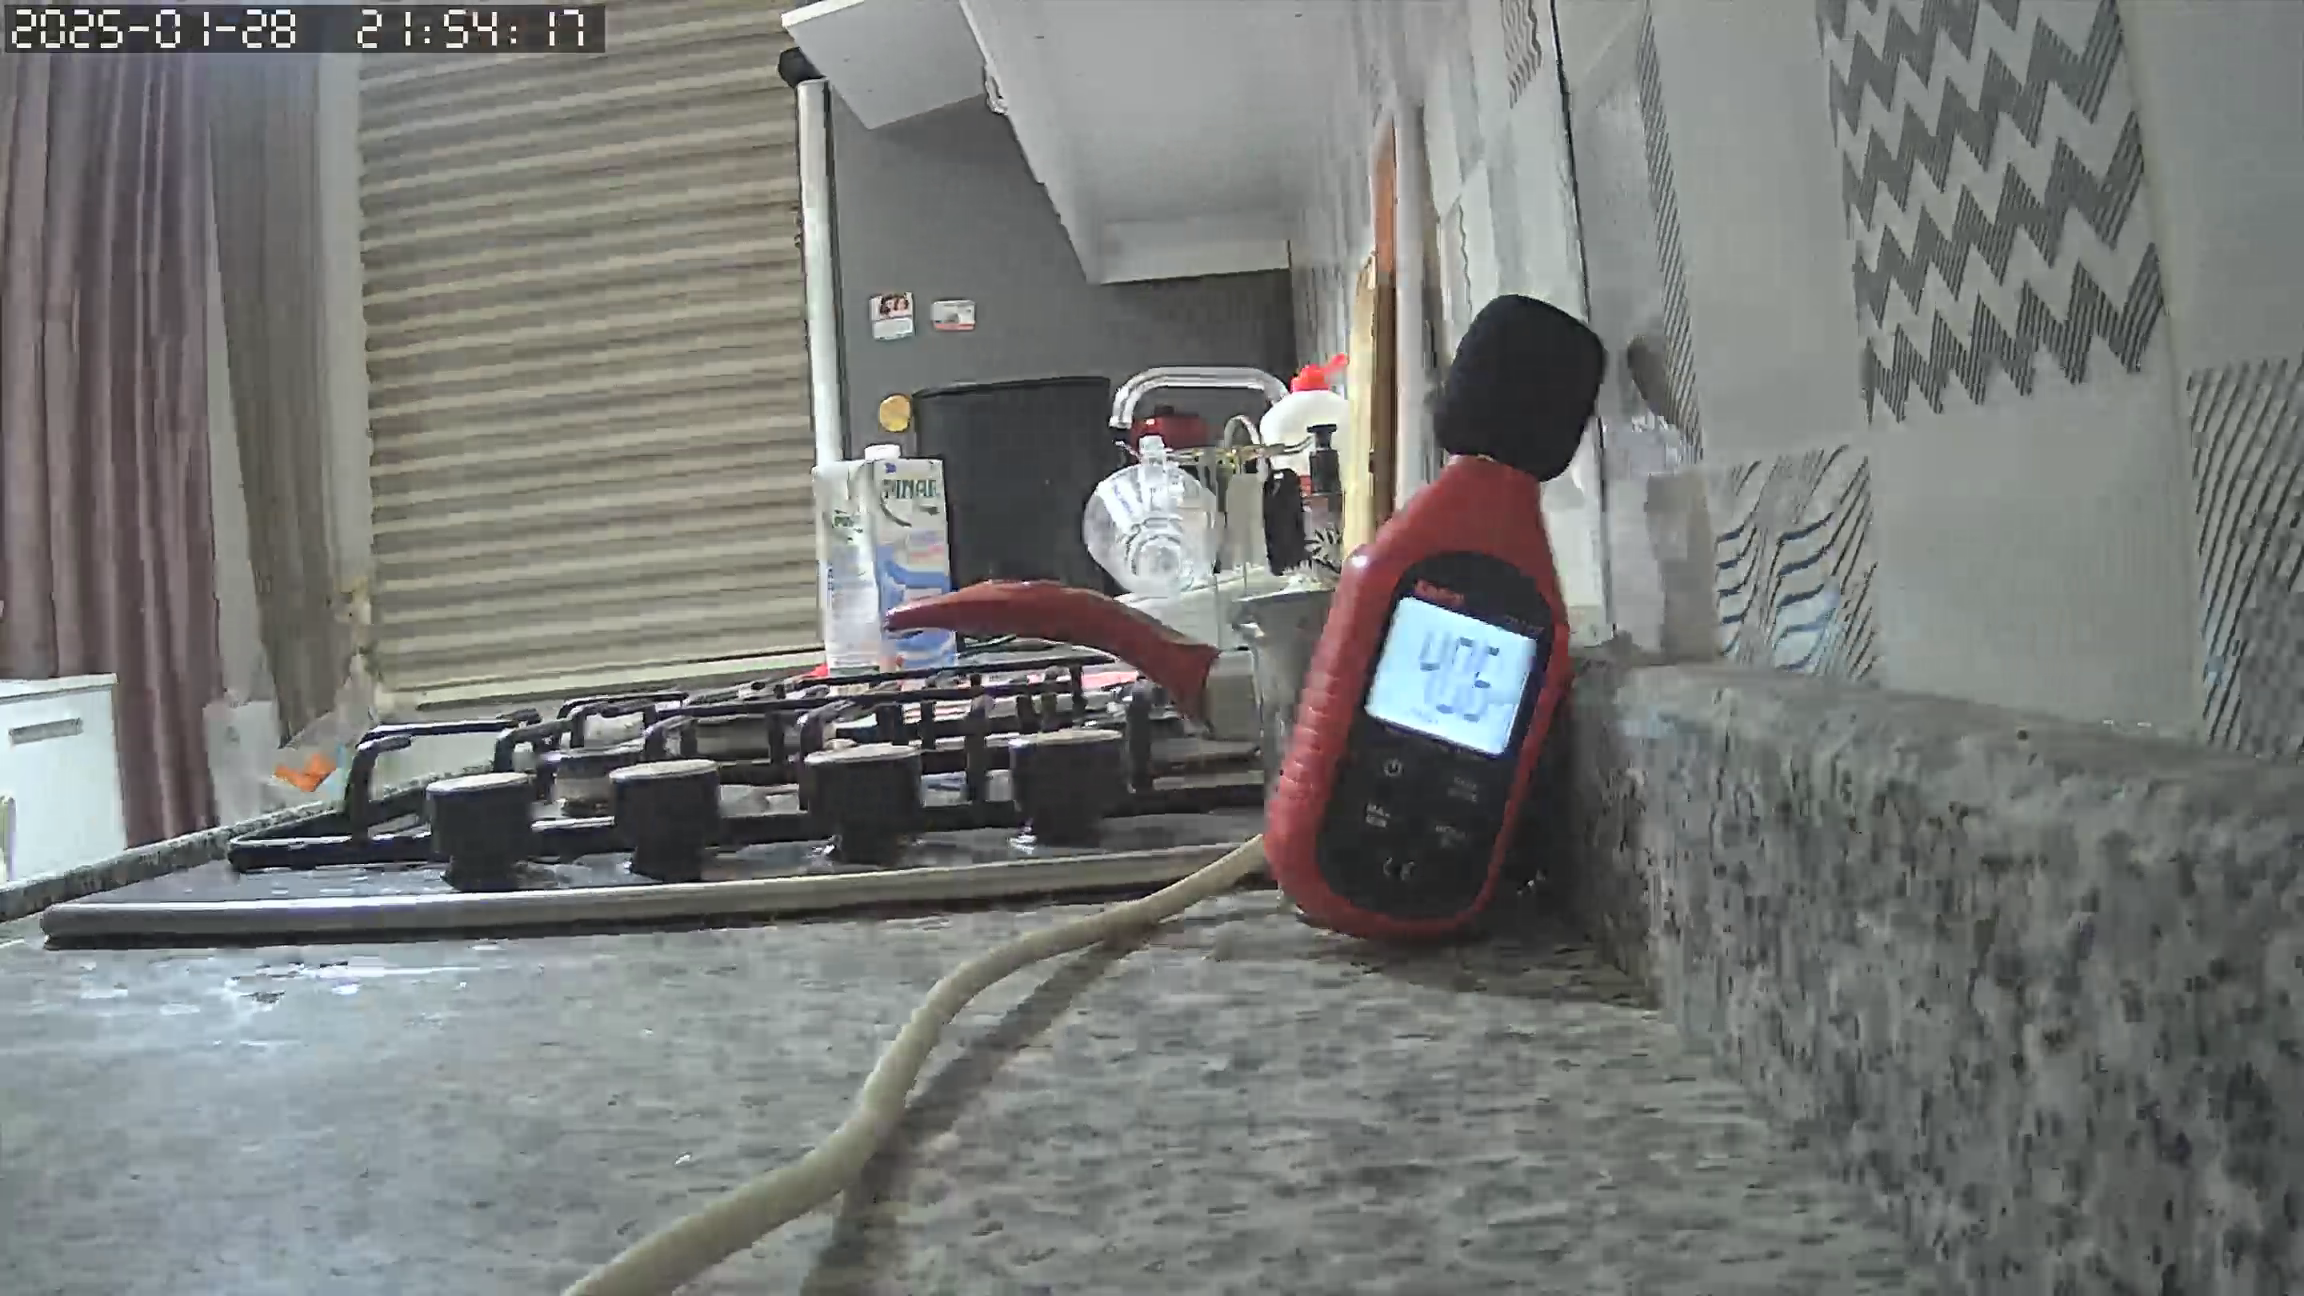screen: (1362, 597, 1540, 752)
